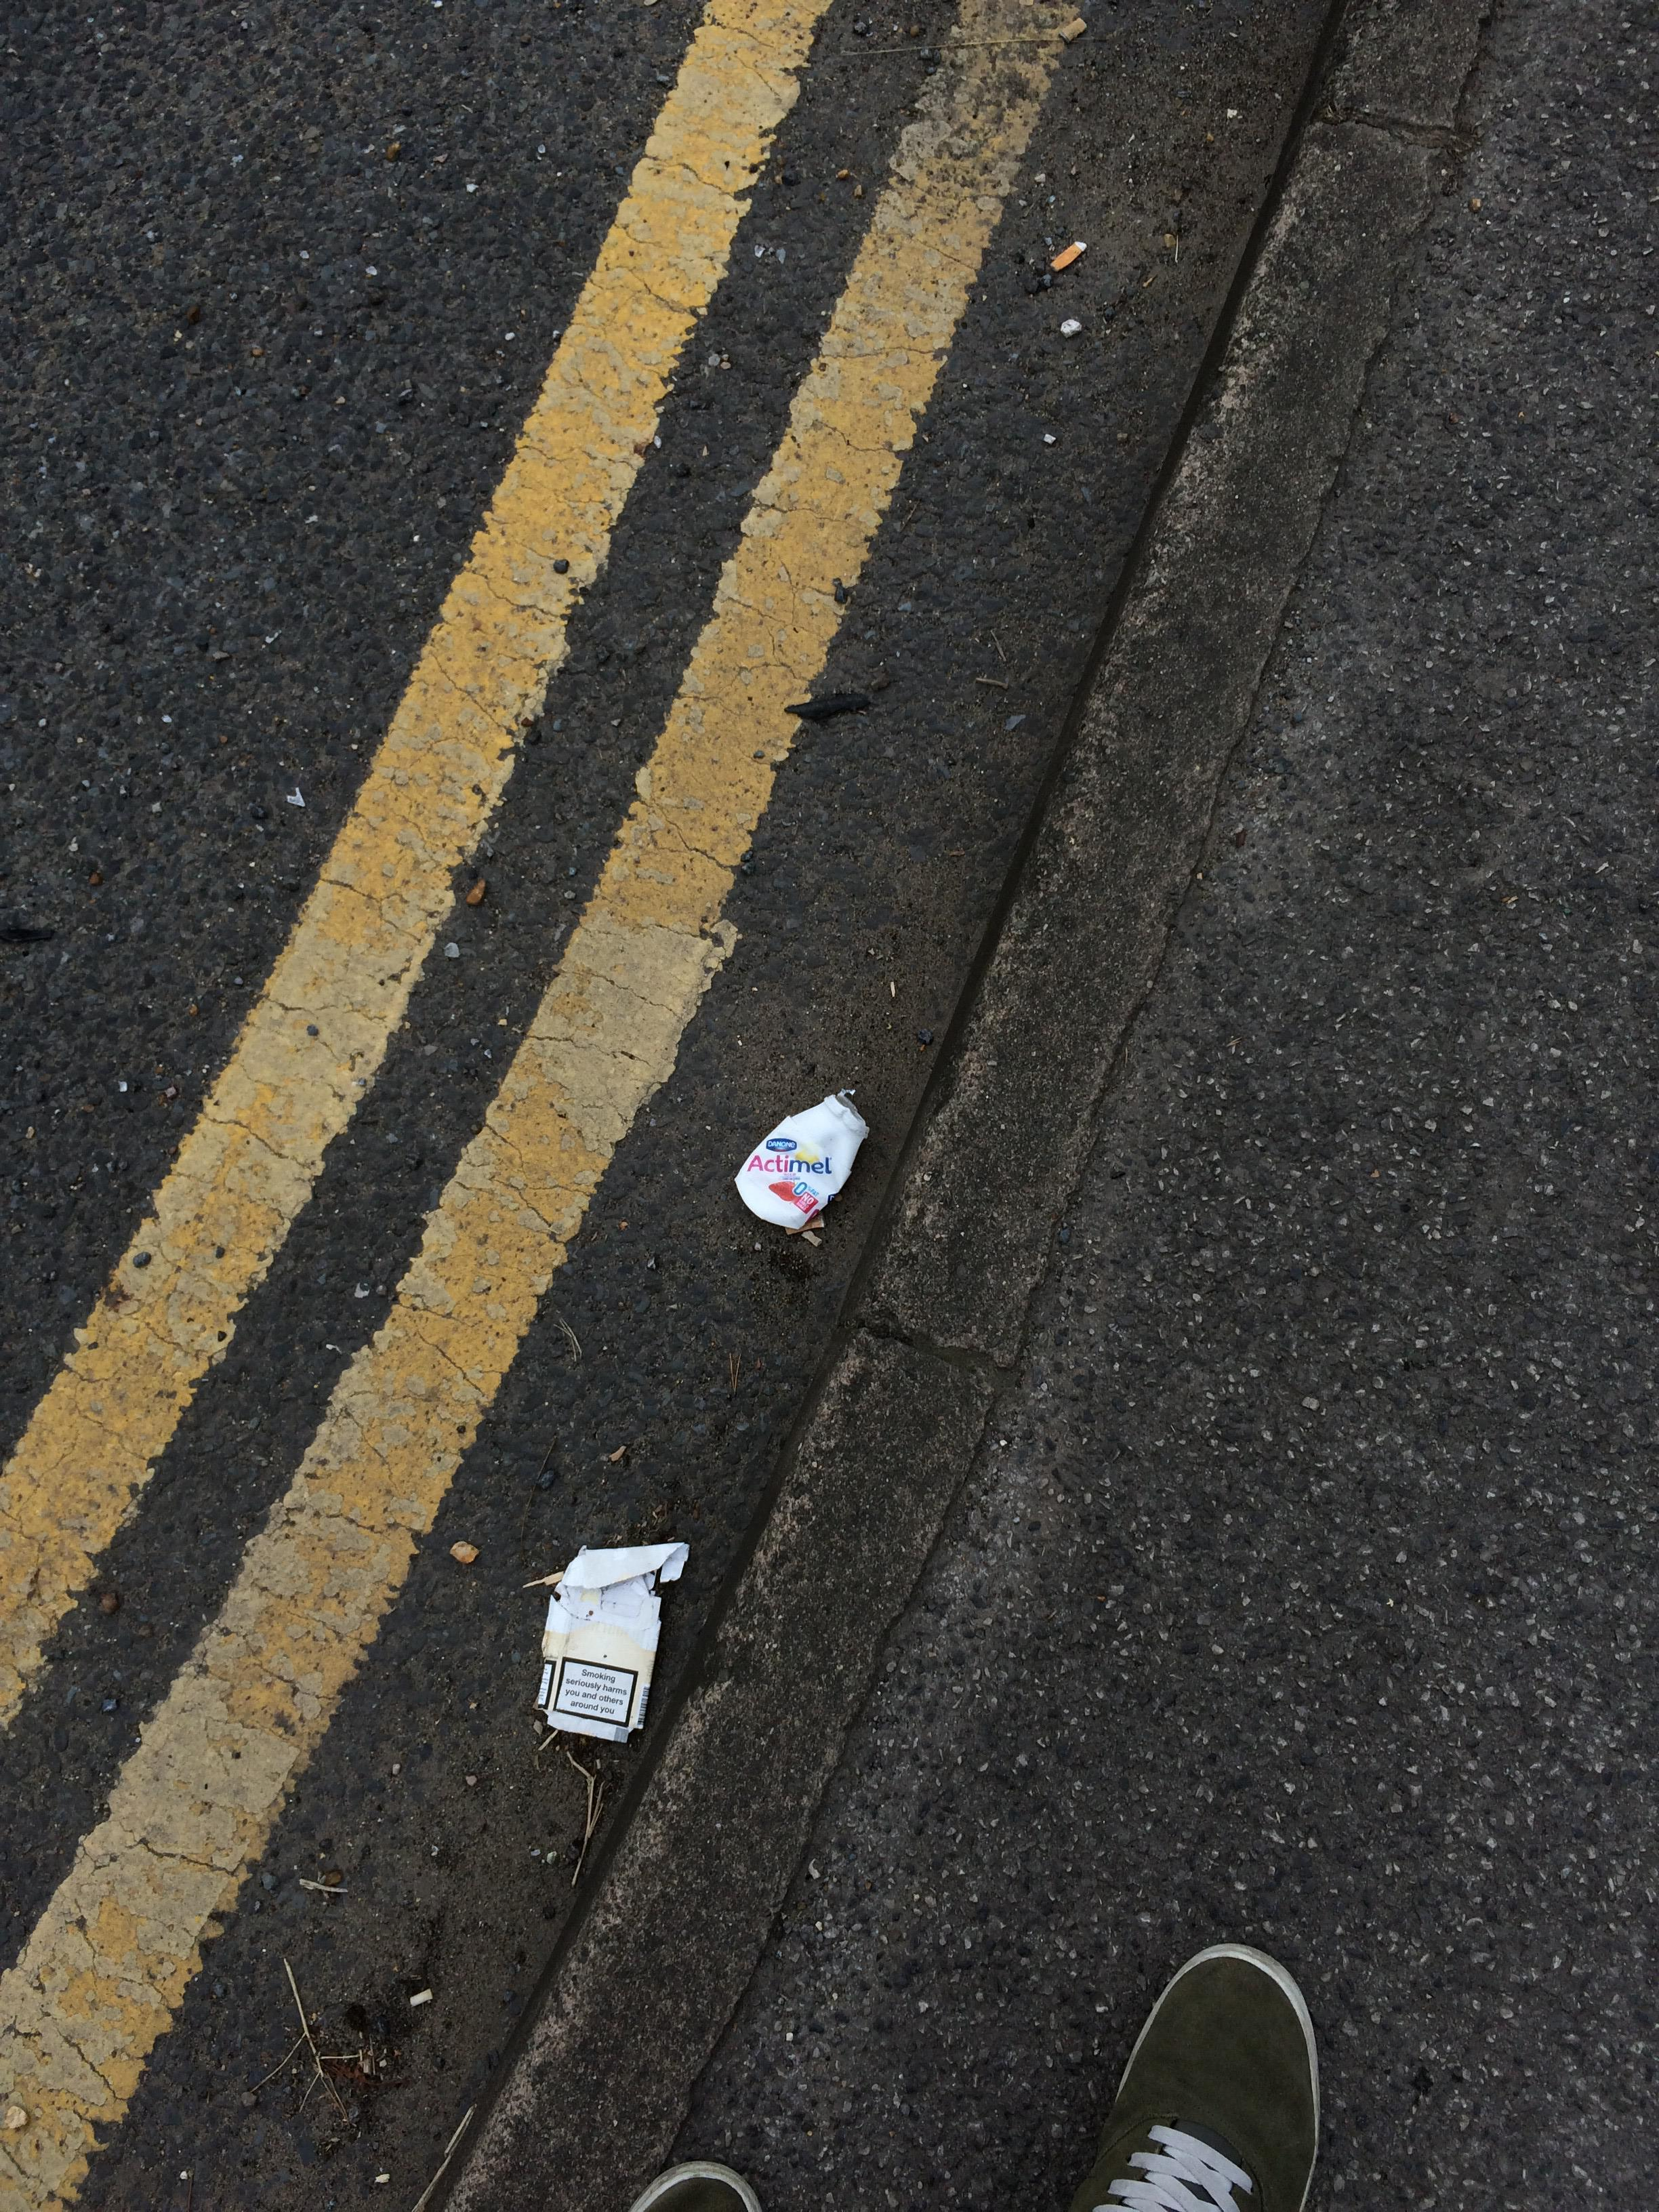Trash: (525, 1519, 704, 1747), (737, 1085, 897, 1233)
